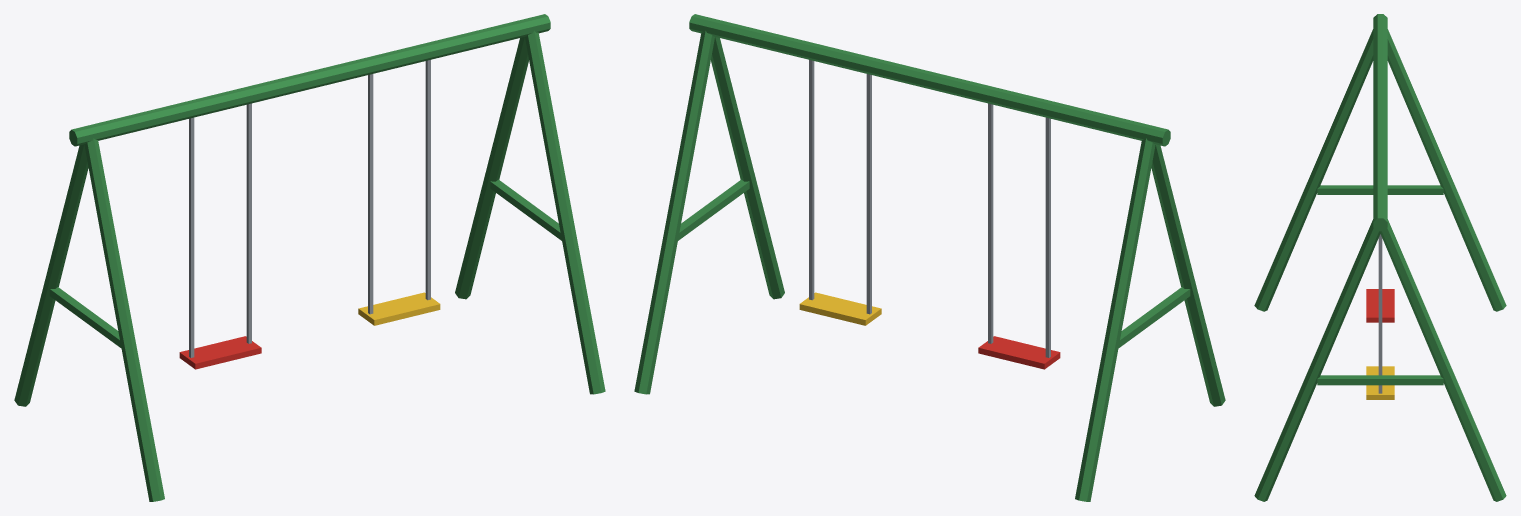
Rendered from prop_swingset.glb.
3 views of the same model, side by side, from view 1: azimuth 30°, elevation 25°; view 2: azimuth 150°, elevation 25°; view 3: azimuth 270°, elevation 25° (orthographic). The views are drawn at different scales.
Parts seen in each view (by area): view 1: prop_swingset; view 2: prop_swingset; view 3: prop_swingset.
Part boxes in pixels (x1,y1,x2,y2): prop_swingset: (14,14,605,501); prop_swingset: (634,14,1225,501); prop_swingset: (1254,14,1506,501).
Bounding box in the file's own units: 3.44 × 2.27 × 1.79.
